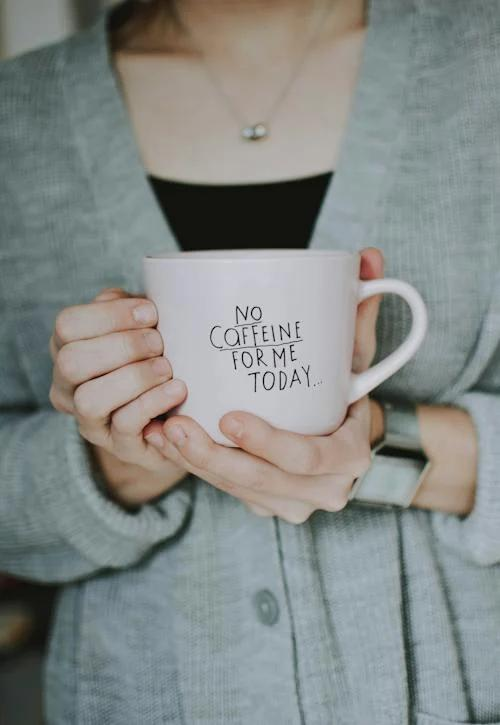Mug: (116, 212, 452, 490)
